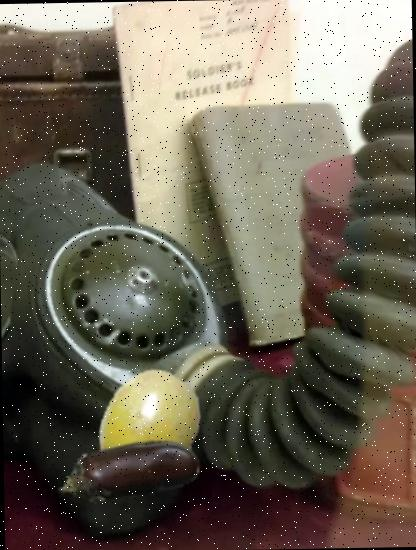Eggplant: (53, 396, 205, 548)
Maracuja: (90, 366, 209, 486)
